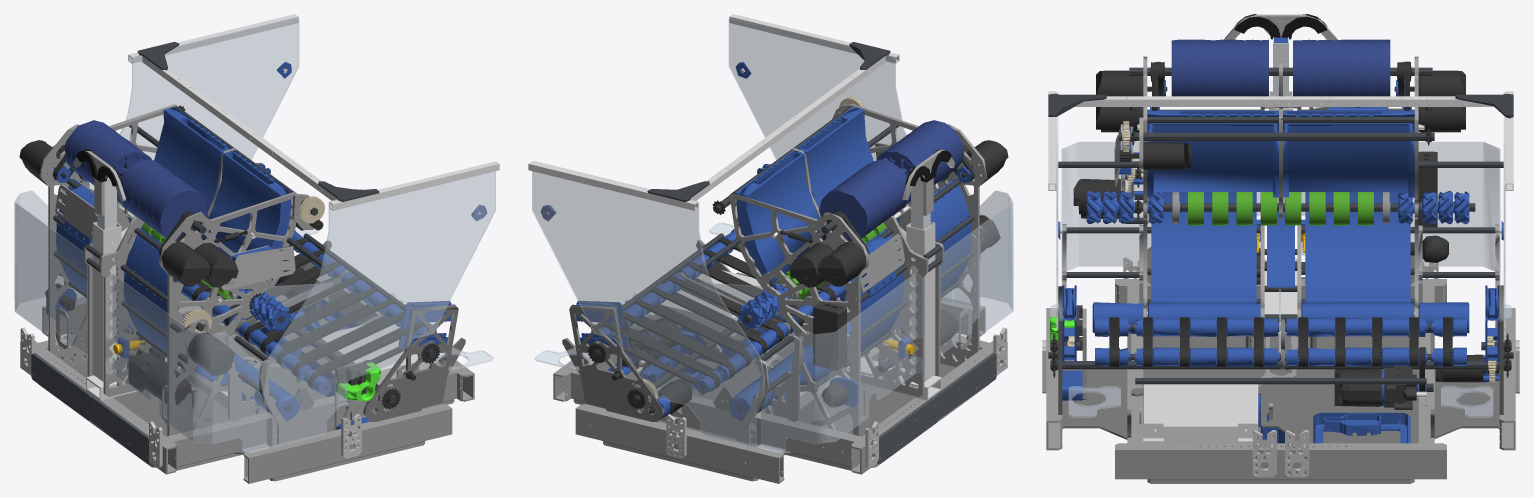
The model's file is 7769-body.glb.
The picture shows the model from 3 angles, left to right: view 1: azimuth 30°, elevation 25°; view 2: azimuth 150°, elevation 25°; view 3: azimuth 270°, elevation 25°; orthographic projection. The views are drawn at different scales.
Visible parts, largest first — view 1: Kicker Rest Plate, Pigeon Bracket, WCP-CC2026-Canivore Mount Opp, ROUND Spacer 1.188 in, ROUND Spacer 0.25 in, 45t 5mm Belt, 18t Aluminum Sprocket (#25, 1/2" Hex Bore, Double Hub), 4" Stealth Wheel (50A, 1/2" Hex Bore), 1/2" Rounded Hex (REV) (1.875 in), HDPE Glider, Bumper Bracket, Robot Battery (+7 smaller); view 2: Kicker Rest Plate, Pigeon Bracket, WCP-CC2026-Canivore Mount Opp, ROUND Spacer 1.188 in, ROUND Spacer 0.25 in, 45t 5mm Belt, 18t Aluminum Sprocket (#25, 1/2" Hex Bore, Double Hub), 4" Stealth Wheel (50A, 1/2" Hex Bore), 1/2" Rounded Hex (REV) (1.875 in), HDPE Glider, Robot Radio (VH-109), Bumper Bracket (+4 smaller); view 3: WCP-CC2026-Canivore Mount Opp, Pigeon Bracket, ROUND Spacer 1.188 in, Kicker Rest Plate, 1/2" Rounded Hex (REV) (1.875 in), 18t Aluminum Sprocket (#25, 1/2" Hex Bore, Double Hub), 4" Stealth Wheel (50A, 1/2" Hex Bore), Robot Battery, ROUND Spacer 0.25 in, 45t 5mm Belt, 2.25" Compliant Wheel (35A, 1" Wide, 1/2" Hex Bore), Bumper Bracket (+7 smaller).
Boxes of the visible parts, <box> form: Kicker Rest Plate: <box>14,17,495,453</box>; Pigeon Bracket: <box>20,104,474,483</box>; WCP-CC2026-Canivore Mount Opp: <box>46,62,486,429</box>; ROUND Spacer 1.188 in: <box>72,162,465,477</box>; ROUND Spacer 0.25 in: <box>86,14,499,409</box>; 45t 5mm Belt: <box>53,154,426,389</box>; 18t Aluminum Sprocket (#25, 1/2" Hex Bore, Double Hub): <box>19,105,440,409</box>; 4" Stealth Wheel (50A, 1/2" Hex Bore): <box>64,120,208,241</box>; 1/2" Rounded Hex (REV) (1.875 in): <box>53,41,435,412</box>; HDPE Glider: <box>31,353,150,464</box>; Bumper Bracket: <box>20,293,405,468</box>; Robot Battery: <box>118,206,443,384</box>; Kicker Rest Plate: <box>532,18,1013,453</box>; Pigeon Bracket: <box>553,103,1007,483</box>; WCP-CC2026-Canivore Mount Opp: <box>540,62,974,421</box>; ROUND Spacer 1.188 in: <box>562,240,955,477</box>; ROUND Spacer 0.25 in: <box>528,14,941,409</box>; 45t 5mm Belt: <box>602,155,974,388</box>; 18t Aluminum Sprocket (#25, 1/2" Hex Bore, Double Hub): <box>587,140,1008,416</box>; 4" Stealth Wheel (50A, 1/2" Hex Bore): <box>819,120,963,241</box>; 1/2" Rounded Hex (REV) (1.875 in): <box>592,41,986,412</box>; HDPE Glider: <box>877,353,996,464</box>; Robot Radio (VH-109): <box>813,301,846,370</box>; Bumper Bracket: <box>621,293,1007,468</box>; WCP-CC2026-Canivore Mount Opp: <box>1058,37,1503,443</box>; Pigeon Bracket: <box>1046,56,1515,483</box>; ROUND Spacer 1.188 in: <box>1058,285,1503,480</box>; Kicker Rest Plate: <box>1050,92,1511,417</box>; 1/2" Rounded Hex (REV) (1.875 in): <box>1048,67,1513,391</box>; 18t Aluminum Sprocket (#25, 1/2" Hex Bore, Double Hub): <box>1048,62,1513,406</box>; 4" Stealth Wheel (50A, 1/2" Hex Bore): <box>1171,39,1390,96</box>; Robot Battery: <box>1137,107,1426,443</box>; ROUND Spacer 0.25 in: <box>1048,91,1513,333</box>; 45t 5mm Belt: <box>1109,61,1452,391</box>; 2.25" Compliant Wheel (35A, 1" Wide, 1/2" Hex Bore): <box>1188,192,1373,225</box>; Bumper Bracket: <box>1042,257,1519,477</box>.
Bounding box in the file's own units: 0.6477 × 0.5223 × 0.7493.
